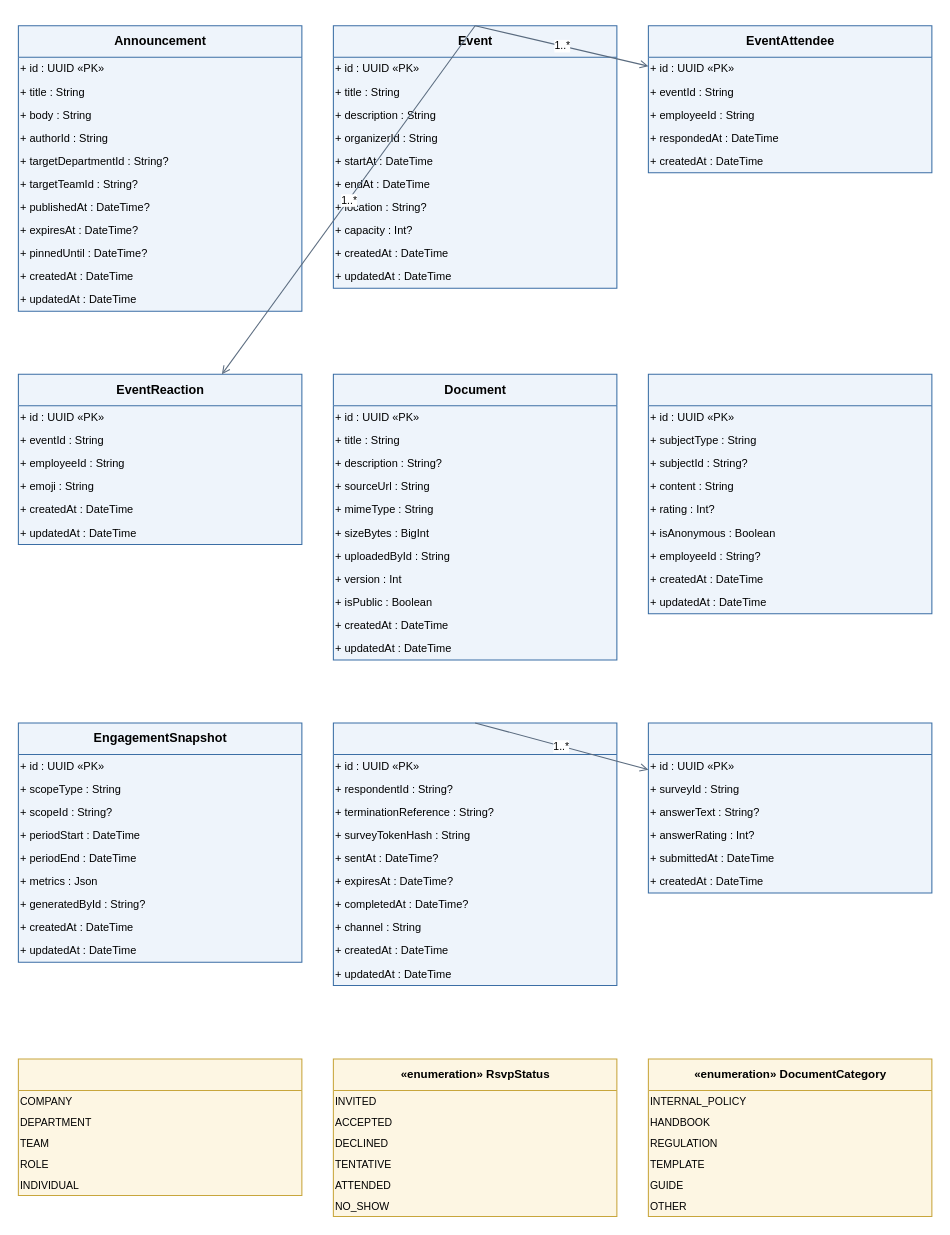
The diagram is 950 pixels wide and 1235 high, and some of its shapes have lost their labels. Each missing label, with the box of its shape:
ExitSurvey: (332, 722, 617, 985)
ExitSurveyResponse: (647, 722, 932, 893)
Feedback: (647, 373, 932, 614)
«enumeration» Audience: (17, 1058, 302, 1195)
